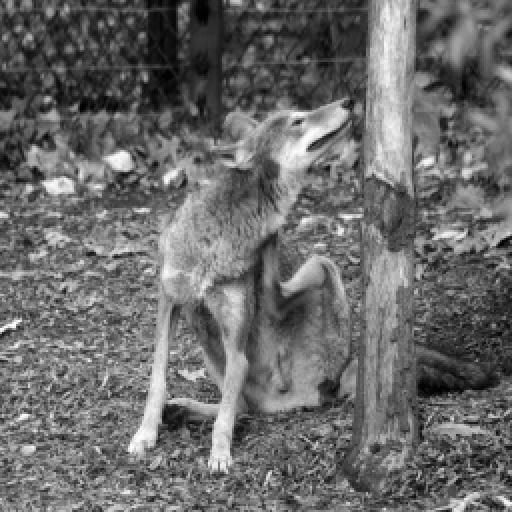zorro: (128, 100, 356, 472)
